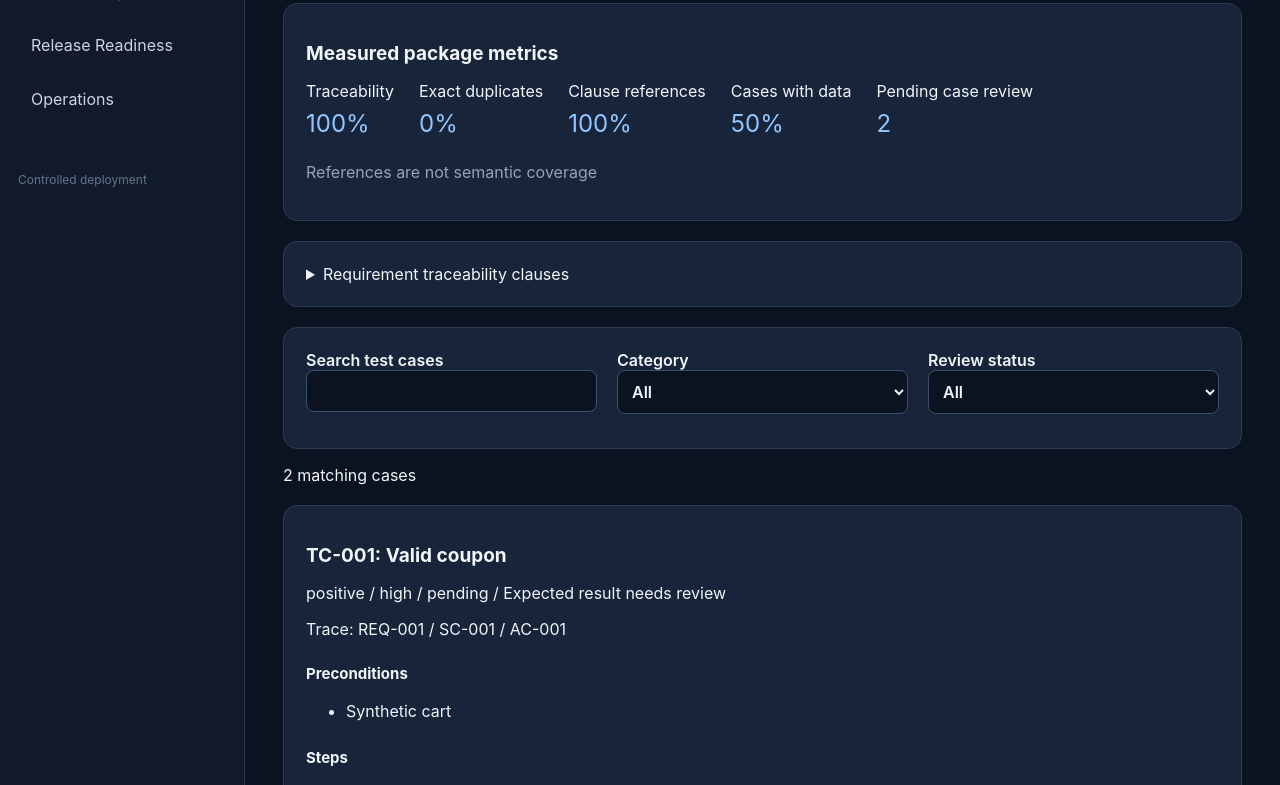
filters by category and search
This screenshot has width=1280, height=785.
(page scrolled)
Expected: the heading "TC-001: Valid coupon" is shown, x1=306 y1=544 x2=507 y2=566
Select "negative" in the dropdown labelled "Category" at (762, 392), box x1=617 y1=370 x2=908 y2=414
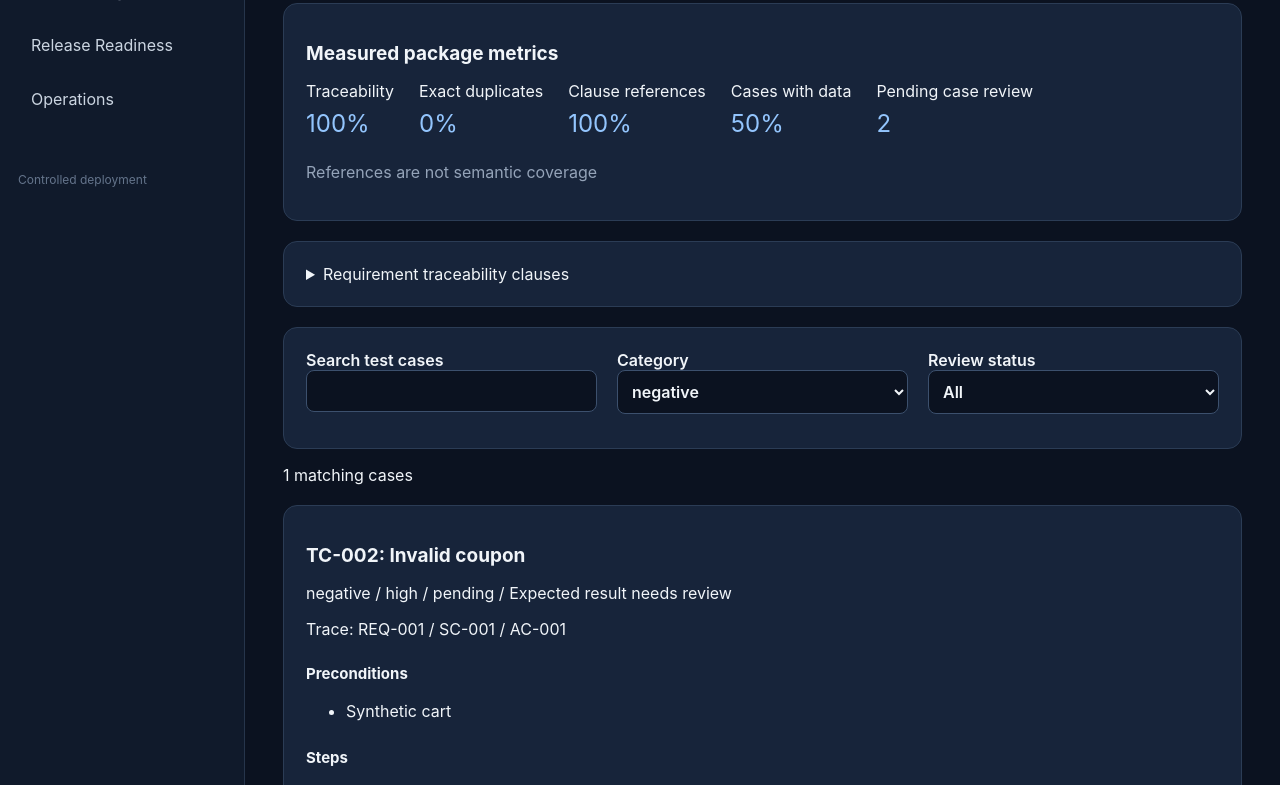
Expected: the heading "TC-002: Invalid coupon" is shown, x1=306 y1=544 x2=526 y2=566
Result: the heading "TC-001: Valid coupon" is gone
Type "nothing" into the field labelled "Search test cases" at (452, 391), box x1=306 y1=370 x2=597 y2=412
(page scrolled)
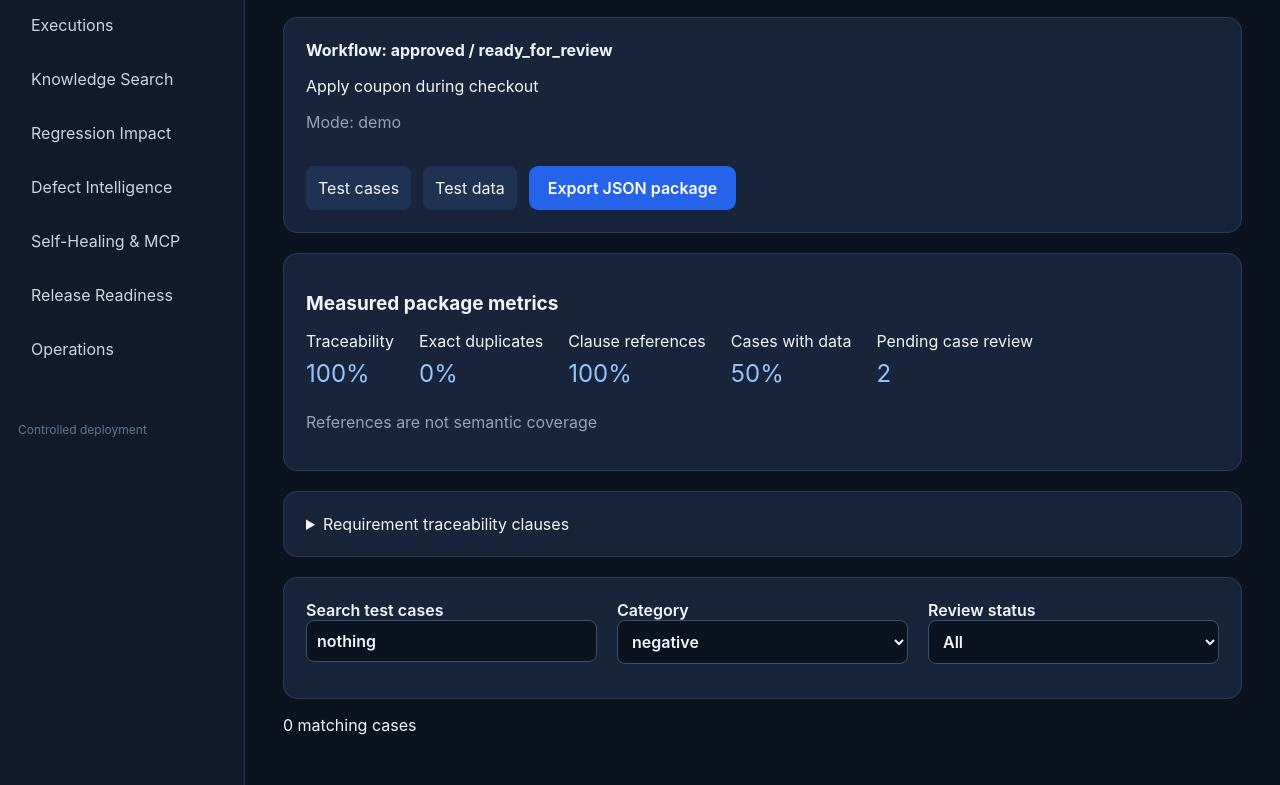
Result: the text "0 matching cases" is shown at x1=283 y1=715 x2=416 y2=735
